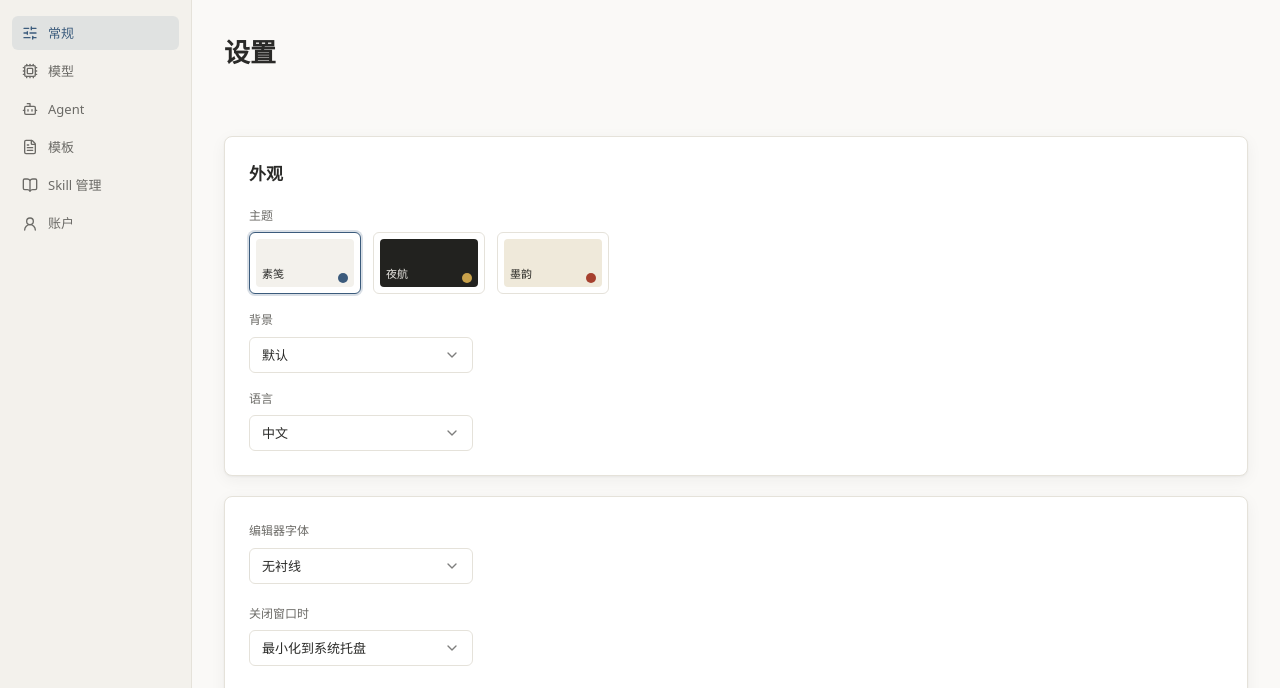
设置页 — 模板分类（#107 RED 契约） › 设为默认 → PATCH /api/v1/agent-templates/default body {id} → 默认徽标迁移
The image size is (1280, 688).
Click the button "模板" at [96, 147], box [12,130,179,164]
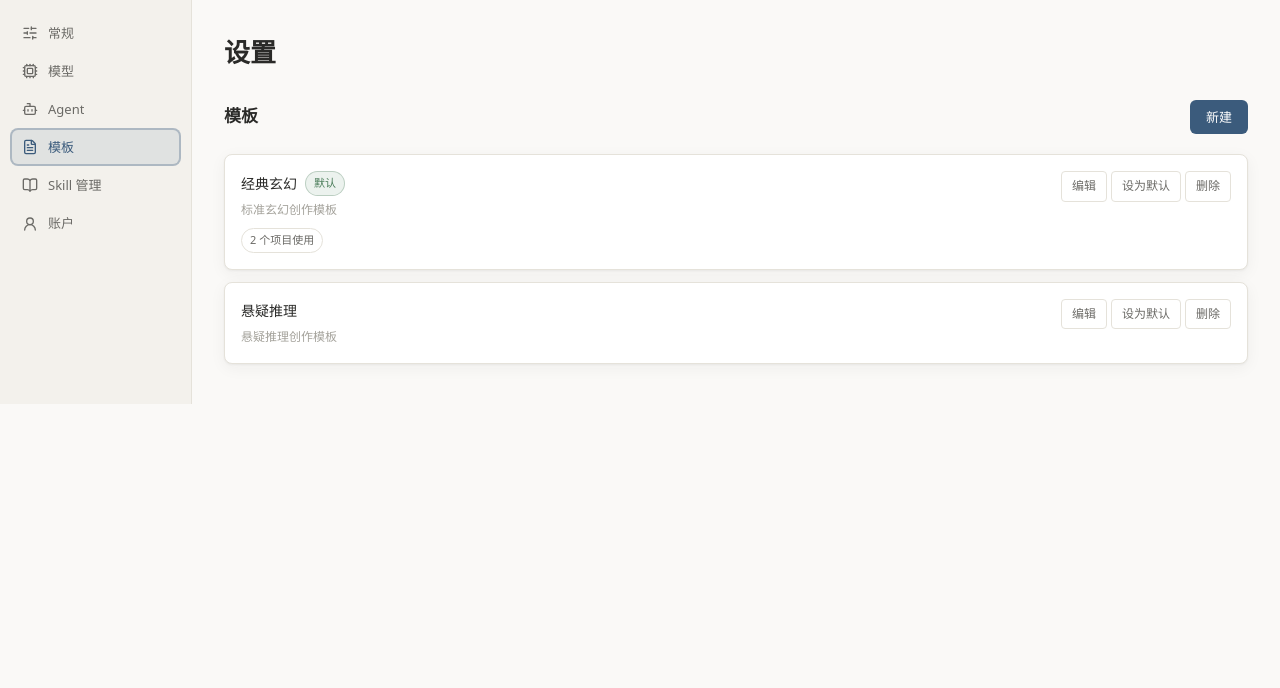
Click the button with test id "template-set-default-2" at [1146, 314], box [1111,299,1181,329]
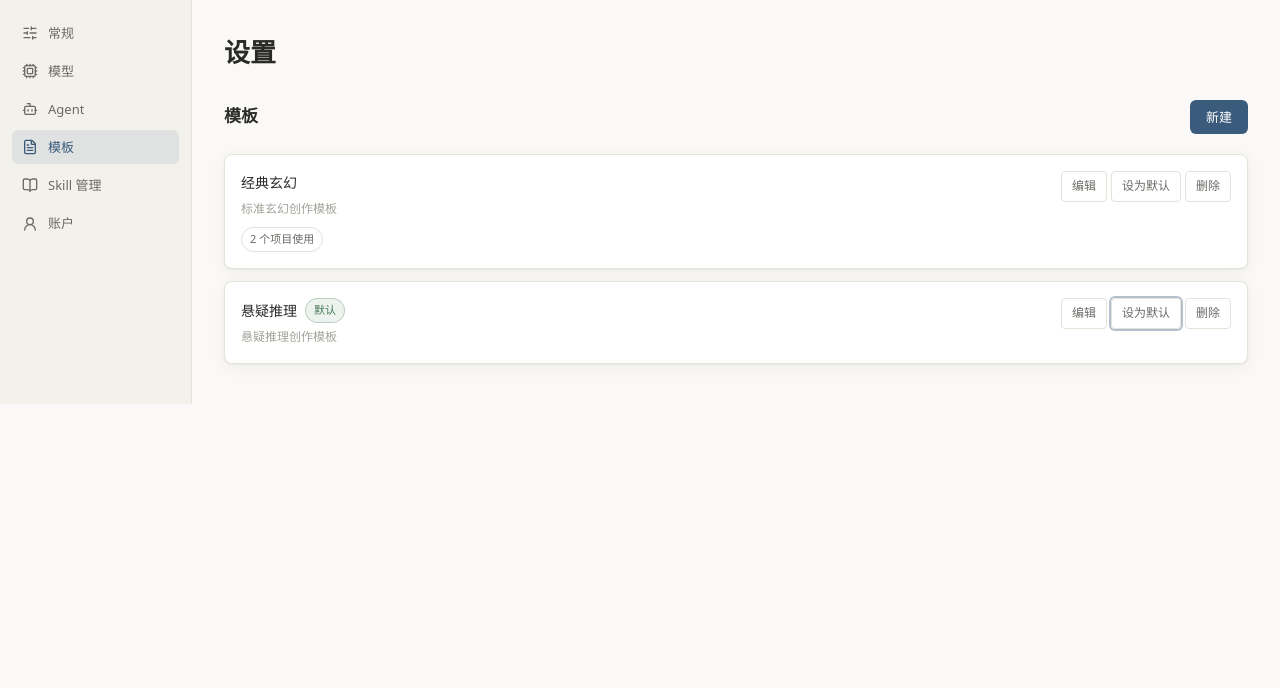
Now the text "默认" is shown, box [305,298,345,323]
Now the text with test id "template-default-badge-1" is gone
